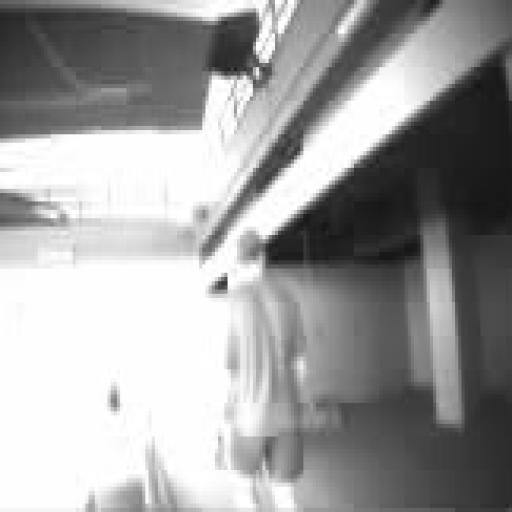human: (225, 231, 306, 511)
